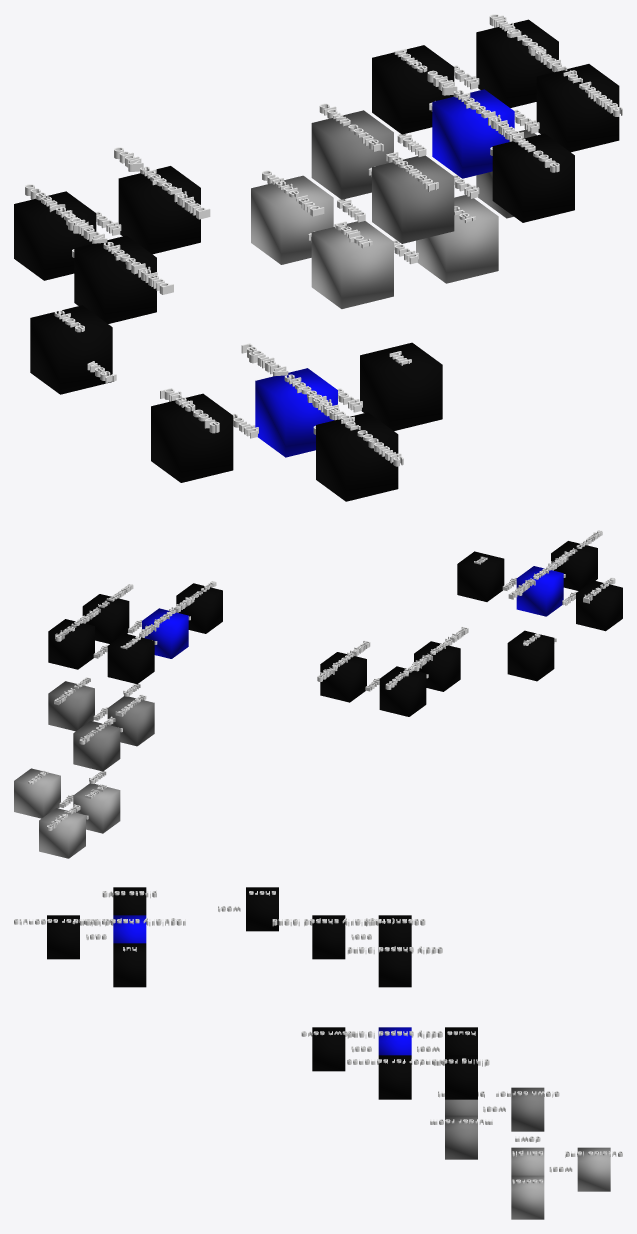
The model's file is for3dViewingSoftware.glb.
3 renders of one model, top to bottom at view 1: azimuth 30°, elevation 25°; view 2: azimuth 150°, elevation 25°; view 3: azimuth 270°, elevation 25°, orthographic. The views are drawn at different scales.
Visible parts, largest first — view 1: Renderer Node; view 2: Renderer Node; view 3: Renderer Node.
Part boxes in pixels (<box>): Renderer Node: <box>14,14,622,501</box>; Renderer Node: <box>14,530,622,858</box>; Renderer Node: <box>14,887,622,1219</box>.
Size of the model in its own units: 65 by 25.36 by 91.8.
